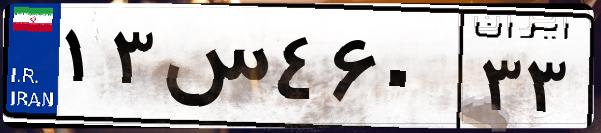0: (385, 28, 445, 110)
1: (57, 26, 110, 100)
3: (475, 38, 525, 113), (525, 38, 570, 115), (110, 28, 158, 98)
4: (270, 28, 330, 110)
6: (330, 28, 385, 110)
س: (158, 20, 270, 120)
